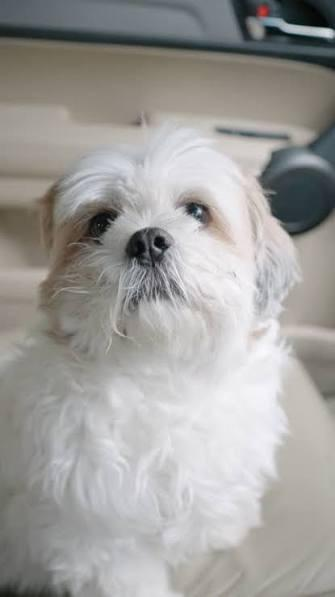adult_dog: (0, 115, 302, 597)
